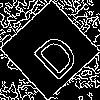D: (25, 24, 82, 82)
